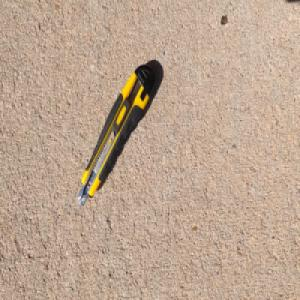Cutter: (76, 61, 156, 207)
